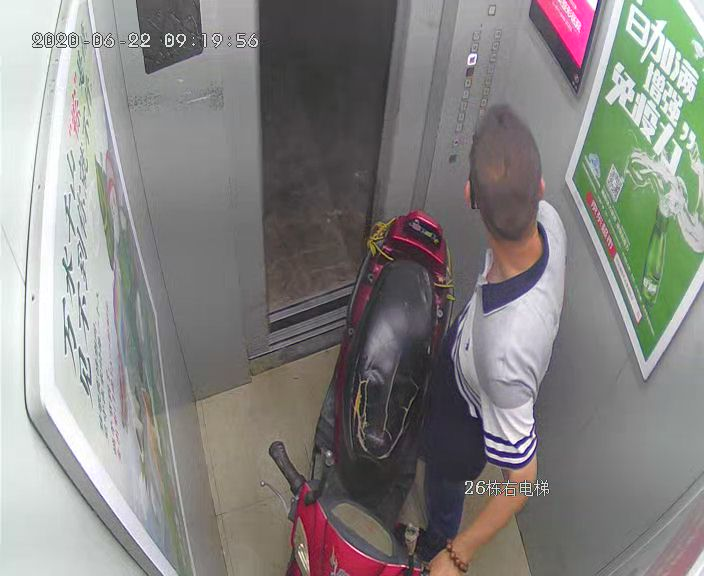Electric-bicycle: (260, 211, 453, 576)
